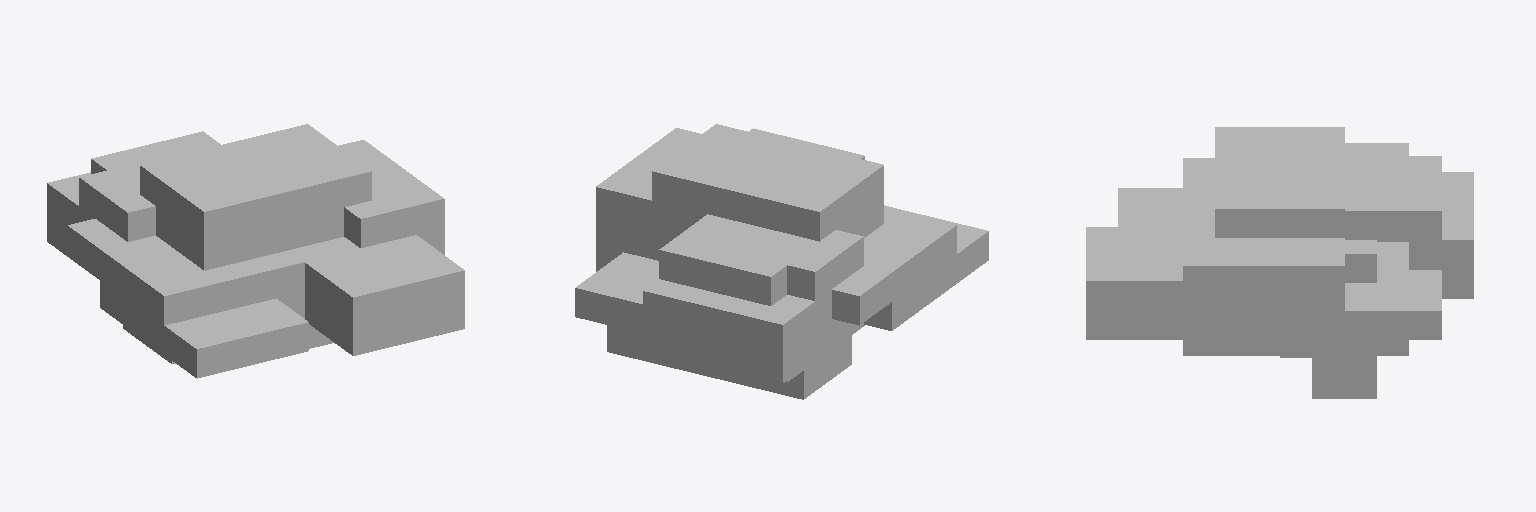
File: stone2.obj
3 renders of one model, left to right at view 1: azimuth 30°, elevation 25°; view 2: azimuth 150°, elevation 25°; view 3: azimuth 270°, elevation 25°, orthographic.
Size of the model in its own units: 10 by 6 by 12.